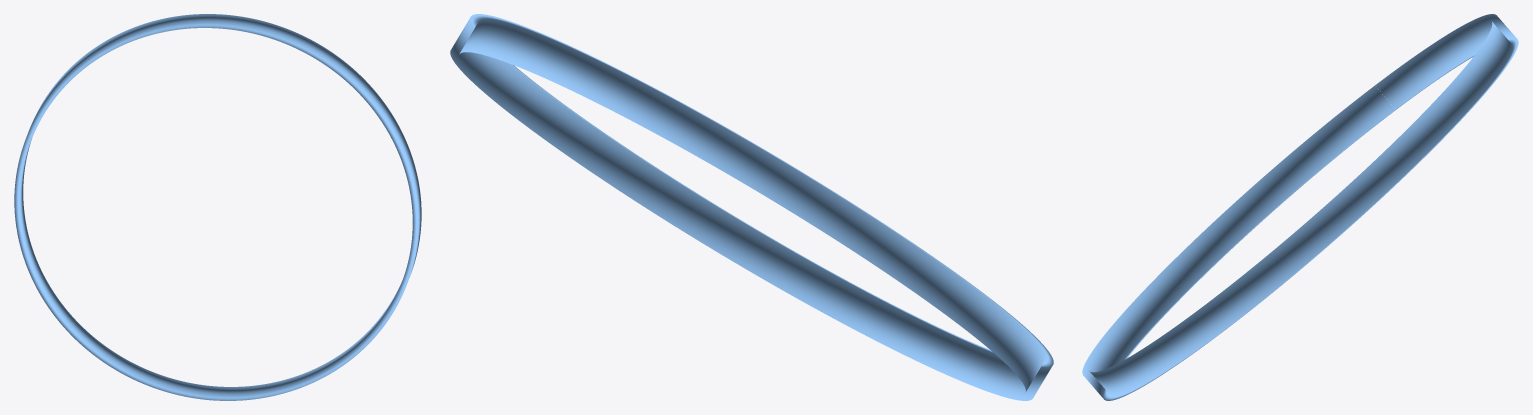
The model's file is coil_coil_5_tube.gltf.
The picture shows the model from 3 angles, left to right: view 1: azimuth 30°, elevation 25°; view 2: azimuth 150°, elevation 25°; view 3: azimuth 270°, elevation 25°; orthographic projection. The views are drawn at different scales.
Visible parts, largest first — view 1: Renderer Node; view 2: Renderer Node; view 3: Renderer Node.
Boxes of the visible parts, x1,y1,x2,y2 form: Renderer Node: (14,14,421,400); Renderer Node: (450,14,1053,400); Renderer Node: (1082,14,1518,400).
Size of the model in its own units: 0.602 by 0.4428 by 0.4839.
